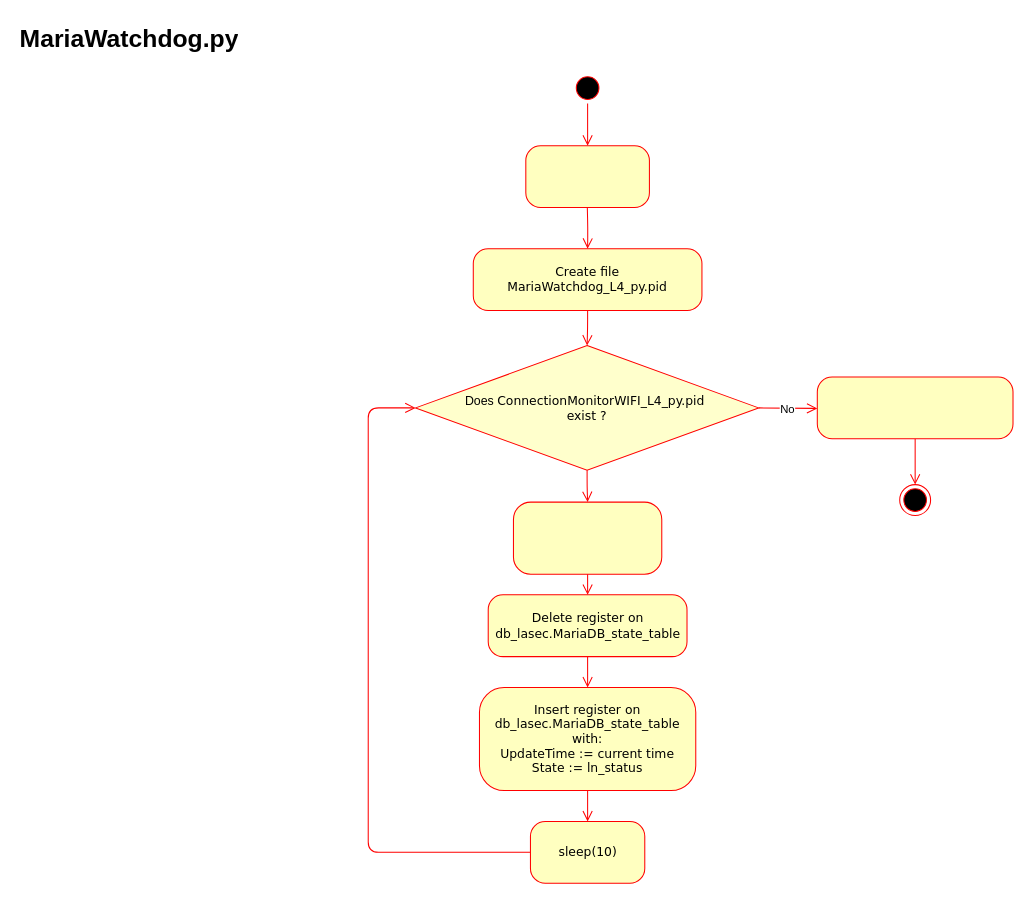
Image size: 1031x901. Some labels were removed from this diagram. The centre of each missing label's shape, as x and y in pixels:
"Close connection to db_lasec" goes at point (914, 407).
"Connect to database db_lasec" goes at point (587, 176).
"Get status of mysqld service and save it in ln_status" goes at point (587, 537).
